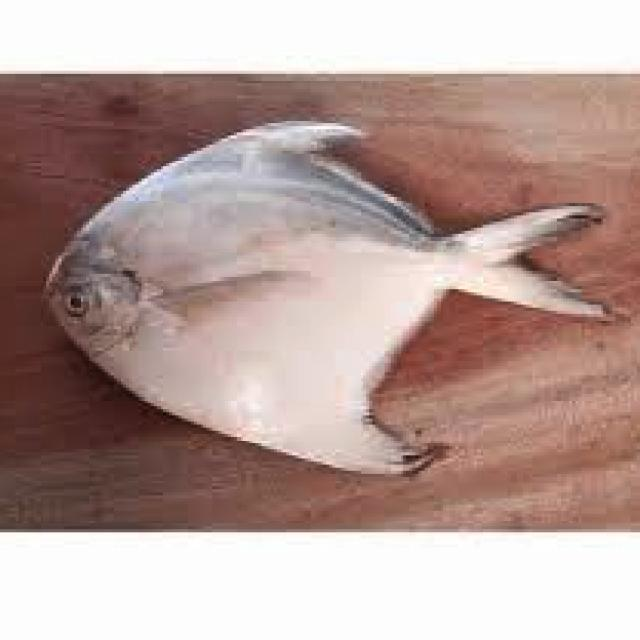pomfred: (45, 122, 614, 473)
